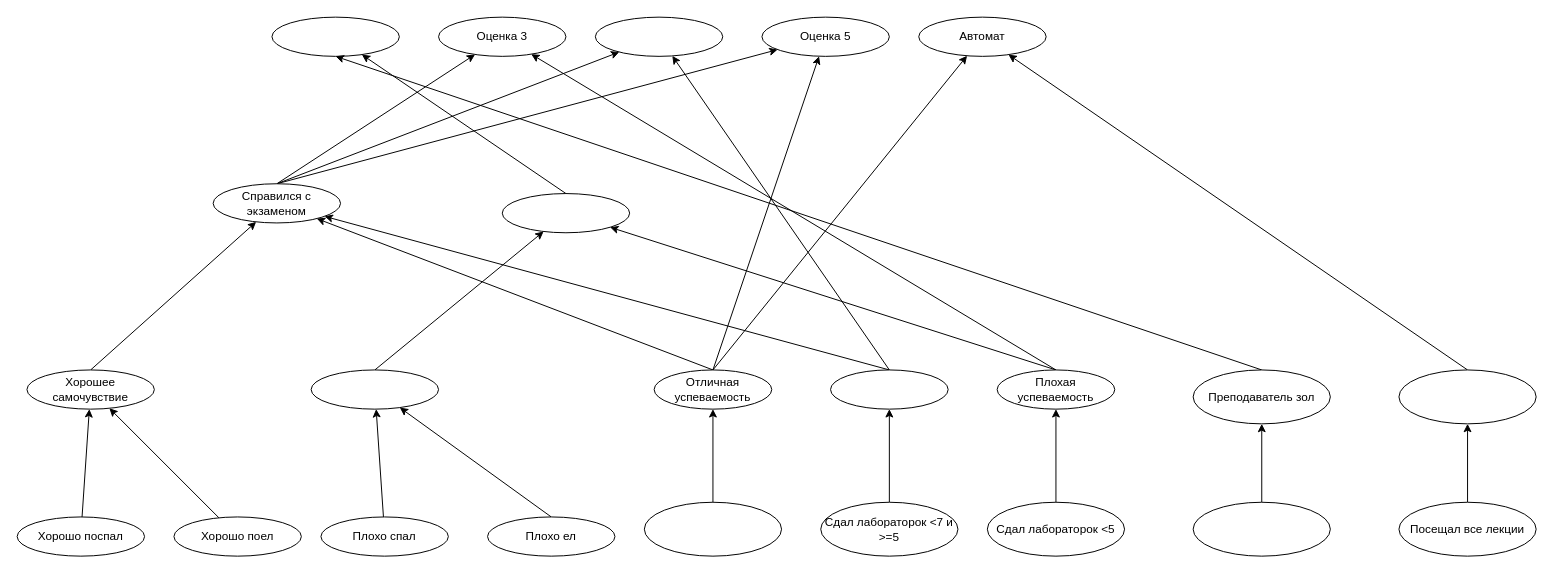
Some shapes in this 1553 by 573 pixel diagram are drawn without their labels. Each missing label, with the centre of its shape:
"Не посещал или посещал частично" belongs at (x=1261, y=528).
"Не справился с экзаменом" belongs at (x=565, y=213).
"Неудача" belongs at (x=335, y=36).
"Оценка 4" belongs at (x=658, y=36).
"Плохое самочувствие" belongs at (x=374, y=389).
"Преподаватель добр" belongs at (x=1467, y=396).
"Сдал лабораторок 7" belongs at (x=712, y=528).
"Хорошая успеваемость" belongs at (x=889, y=389).
